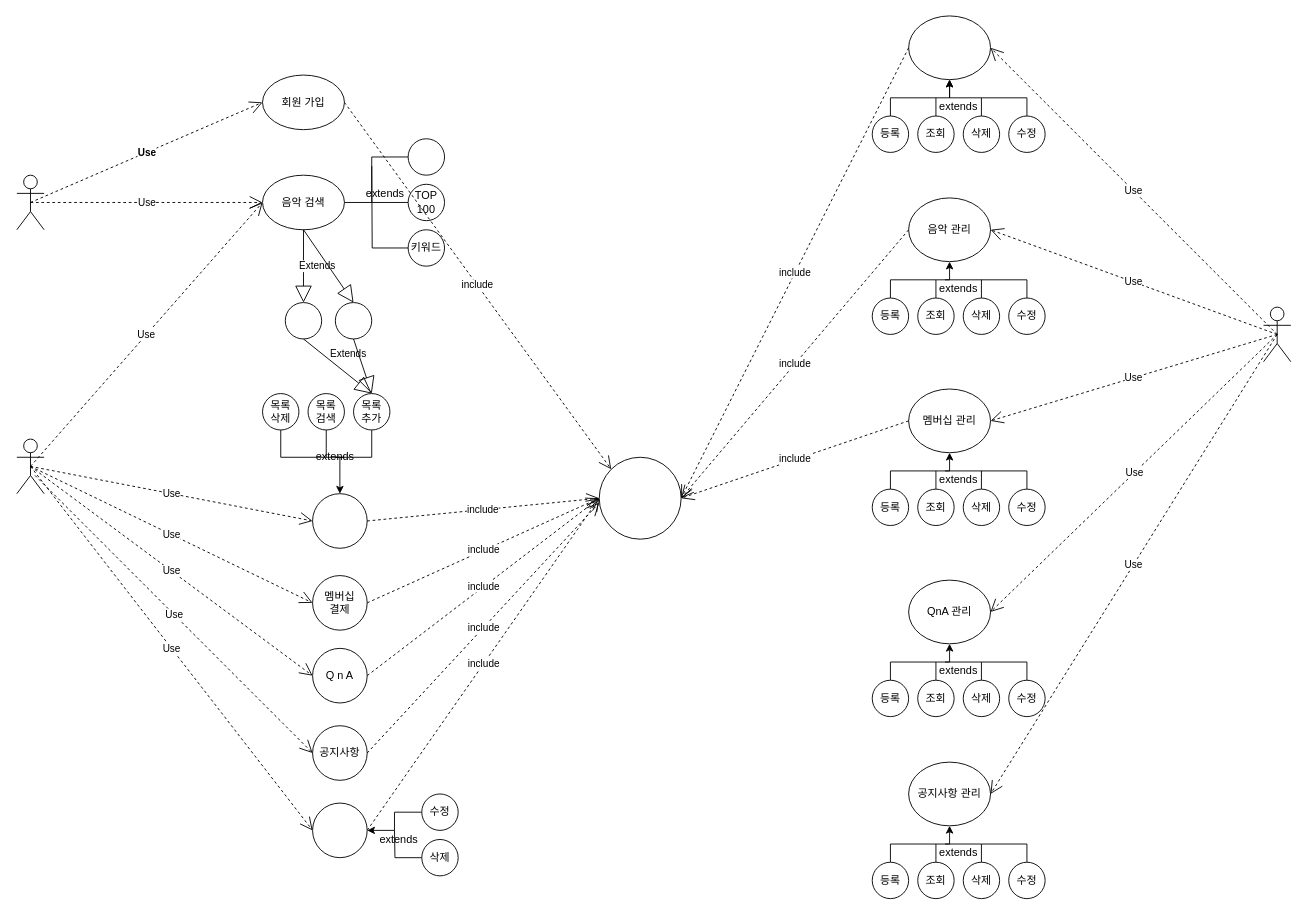
The diagram is 1308 pixels wide and 915 high, and some of its shapes have lost their labels. Each missing label, with the centre of its shape:
"관리자" goes at [1277,334].
"마이 페이지" goes at [339,830].
"비회원" goes at [30,202].
"음악 삭제" goes at [353,320].
"음악 추가" goes at [303,320].
"인증" goes at [639,497].
"재생 목록 관리" goes at [339,520].
"좋아요" goes at [426,156].
"회원" goes at [30,466].
"회원 관리" goes at [949,47].
